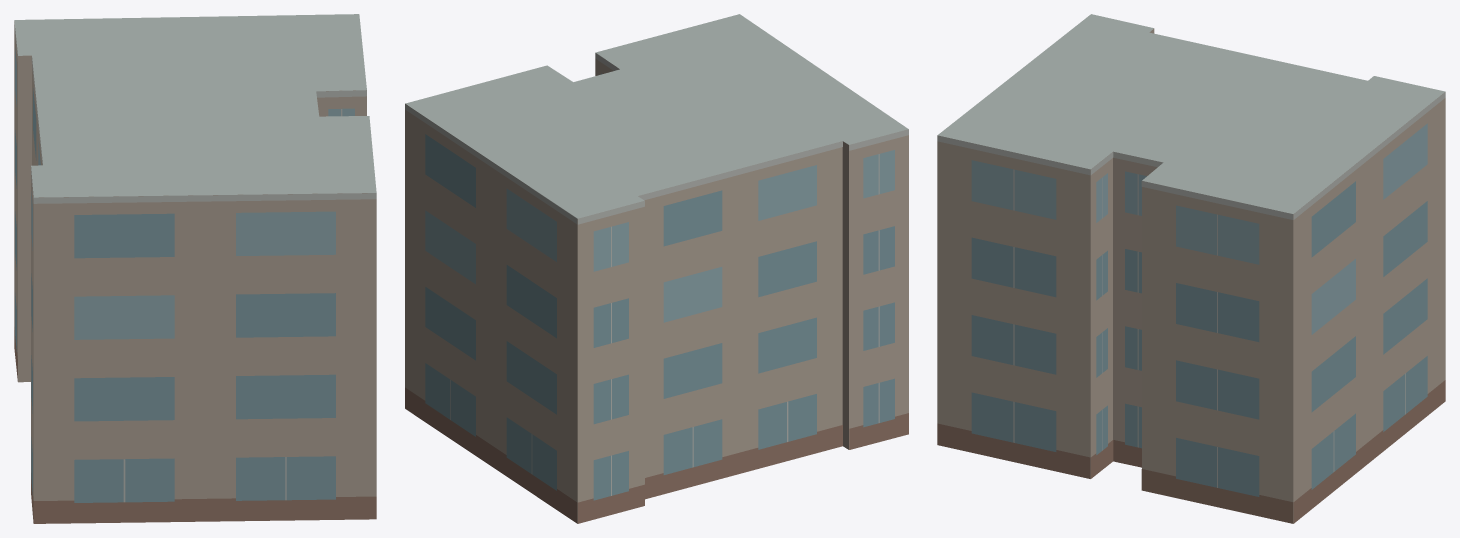
Rendered from survey-upis-32670722.glb.
3 views of the same model, side by side, from view 1: azimuth 30°, elevation 25°; view 2: azimuth 150°, elevation 25°; view 3: azimuth 270°, elevation 25° (orthographic). The views are drawn at different scales.
Visible parts, largest first — view 1: survey-upis-32670722.tmp; view 2: survey-upis-32670722.tmp; view 3: survey-upis-32670722.tmp.
Boxes of the visible parts, x1,y1,x2,y2 form: survey-upis-32670722.tmp: (14, 14, 376, 523); survey-upis-32670722.tmp: (405, 14, 908, 523); survey-upis-32670722.tmp: (937, 14, 1445, 523).
Bounding box in the file's own units: 17.41 × 12.55 × 18.68.
